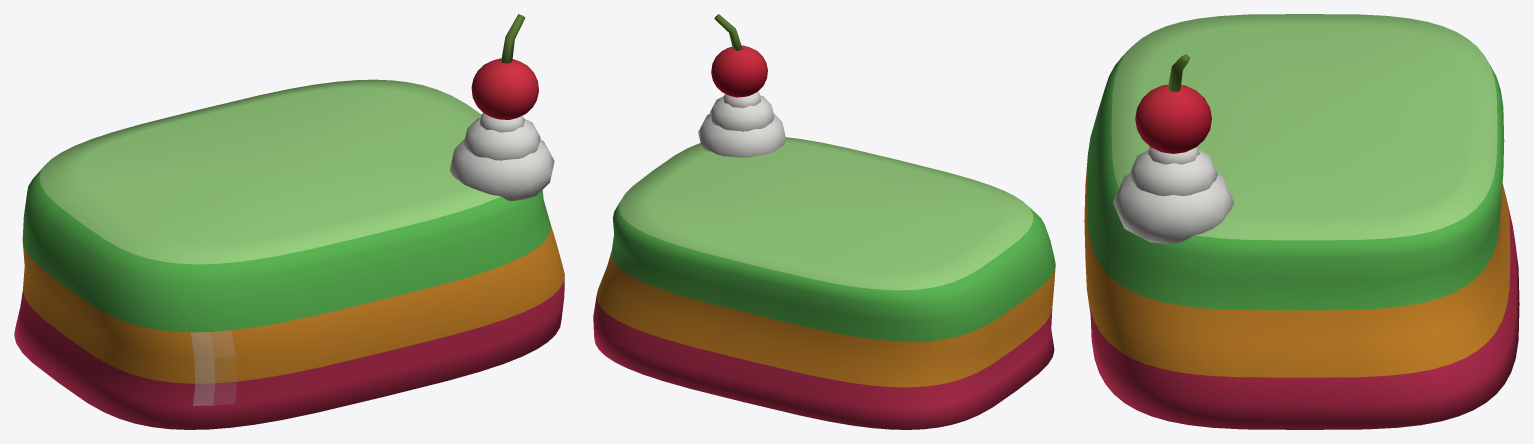
File: pet_mount_jelly.fbx
3 views of the same model, side by side, from view 1: azimuth 30°, elevation 25°; view 2: azimuth 150°, elevation 25°; view 3: azimuth 270°, elevation 25° (orthographic). The views are drawn at different scales.
Parts seen in each view (by area): view 1: pet_mount_jelly; view 2: pet_mount_jelly; view 3: pet_mount_jelly.
Part boxes in pixels (box(x1,y1,x2,y2)): pet_mount_jelly: box(14, 14, 564, 429); pet_mount_jelly: box(593, 14, 1055, 429); pet_mount_jelly: box(1084, 14, 1519, 429).
Size of the model in its own units: 3.3 by 2.18 by 2.4.
